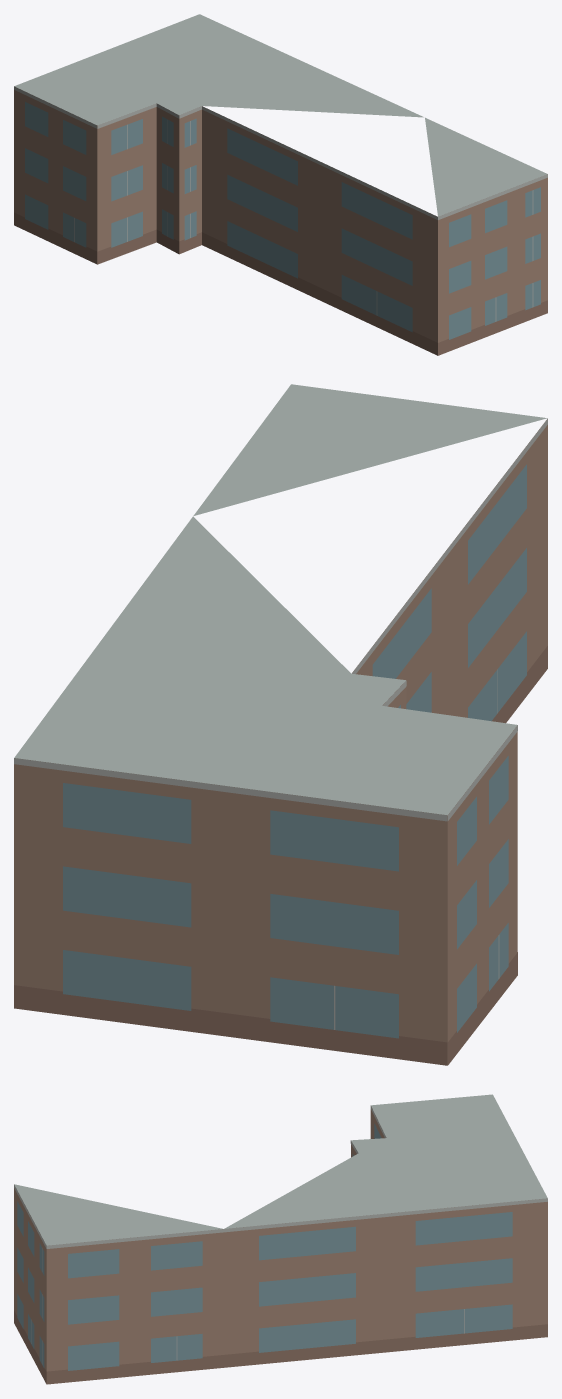
The model's file is survey-upis-32502181.glb.
3 renders of one model, top to bottom at view 1: azimuth 30°, elevation 25°; view 2: azimuth 150°, elevation 25°; view 3: azimuth 270°, elevation 25°, orthographic. The views are drawn at different scales.
Parts seen in each view (by area): view 1: survey-upis-32502181.tmp; view 2: survey-upis-32502181.tmp; view 3: survey-upis-32502181.tmp.
Boxes of the visible parts, left/top/right/bottom form: survey-upis-32502181.tmp: left=14, top=14, right=547, bottom=355; survey-upis-32502181.tmp: left=14, top=384, right=547, bottom=1065; survey-upis-32502181.tmp: left=14, top=1094, right=547, bottom=1384.
Bounding box in the file's own units: 22.86 × 9.78 × 34.09.
